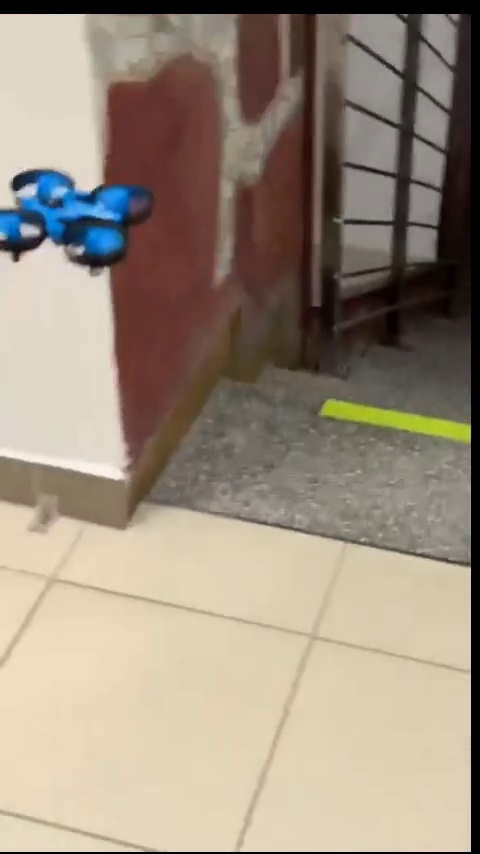drone: (0, 165, 158, 279)
